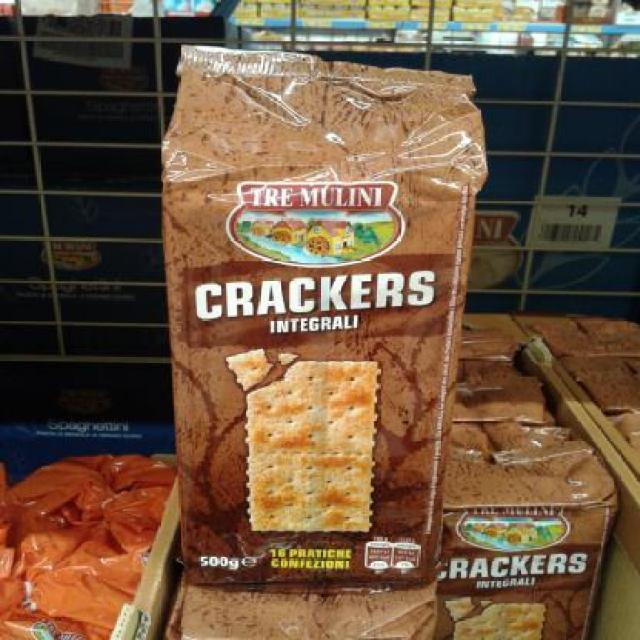Cracker: (134, 37, 460, 603)
